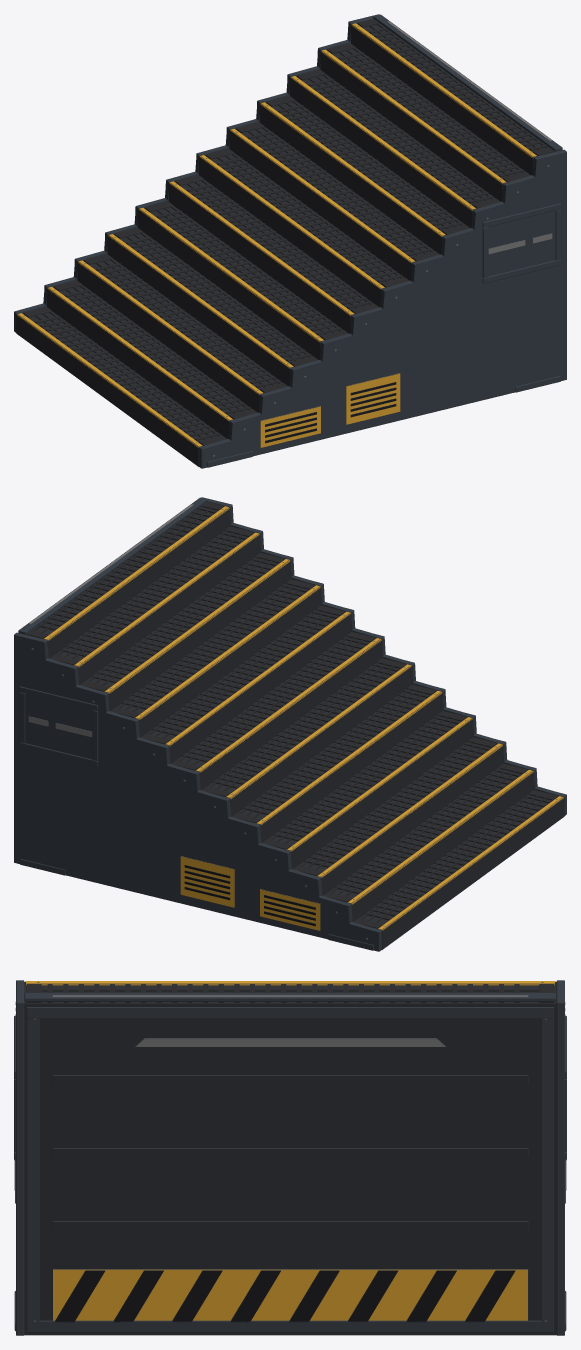
The model's file is SM_Stair_Flight_A.fbx.
3 views of the same model, one above another, from view 1: azimuth 30°, elevation 25°; view 2: azimuth 150°, elevation 25°; view 3: azimuth 270°, elevation 25° (orthographic). The views are drawn at different scales.
Visible parts, largest first — view 1: SM_Stair_Flight_A; view 2: SM_Stair_Flight_A; view 3: SM_Stair_Flight_A.
Boxes of the visible parts, <box> form: SM_Stair_Flight_A: <box>14,14,566,468</box>; SM_Stair_Flight_A: <box>14,497,566,951</box>; SM_Stair_Flight_A: <box>14,980,566,1335</box>.
Bounding box in the file's own units: 337 × 203 × 302.
